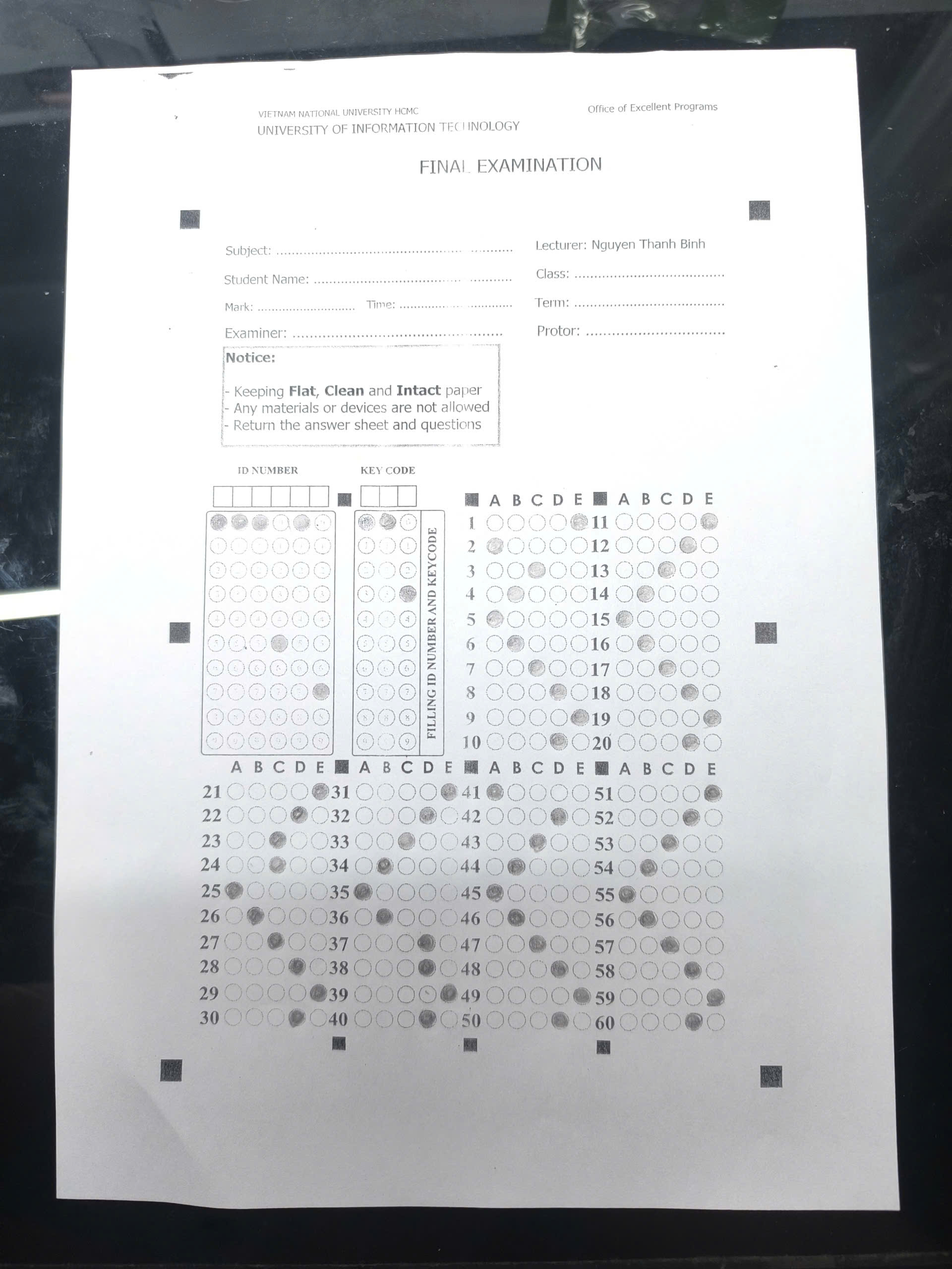info_region: (206, 510, 419, 757)
paper_region: (185, 213, 774, 1080)
q_1_20: (472, 498, 727, 770)
q_21_60: (206, 770, 727, 1049)
